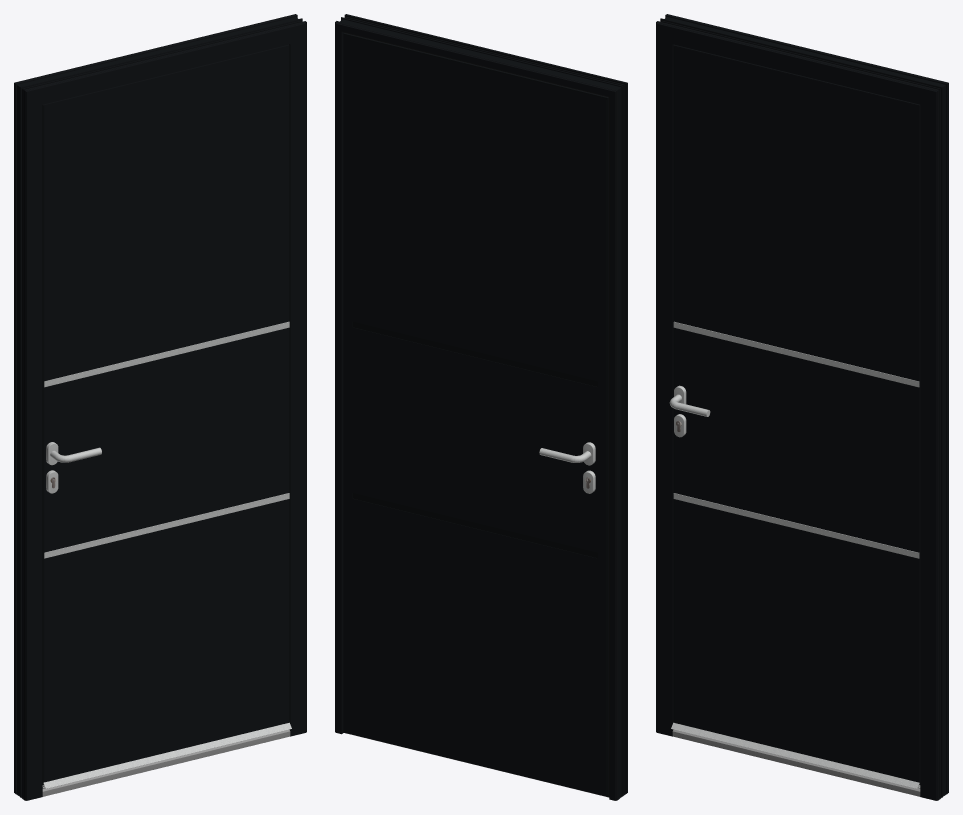
3 views of the same model, side by side, from view 1: azimuth 30°, elevation 25°; view 2: azimuth 150°, elevation 25°; view 3: azimuth 330°, elevation 25° (orthographic).
Visible parts, largest first — view 1: bloco_2, aroFixo, alunox, aroMovel, rodapé, escovas, puxador001, monobloco; view 2: bloco_2, aroFixo, monobloco, aroMovel, puxador; view 3: bloco_2, aroFixo, alunox, aroMovel, rodapé, escovas, puxador001, monobloco.
Part boxes in pixels (x1,y1,x2,y2): bloco_2: [44, 46, 288, 782]; aroFixo: [14, 14, 306, 800]; alunox: [44, 321, 289, 558]; aroMovel: [42, 44, 289, 784]; rodapé: [42, 729, 290, 796]; escovas: [42, 722, 291, 788]; puxador001: [46, 442, 101, 493]; monobloco: [44, 106, 44, 781]; bloco_2: [343, 34, 606, 795]; aroFixo: [335, 14, 627, 800]; monobloco: [344, 34, 607, 796]; aroMovel: [343, 32, 609, 796]; puxador: [539, 442, 595, 493]; bloco_2: [674, 46, 918, 782]; aroFixo: [656, 14, 948, 800]; alunox: [673, 321, 919, 558]; aroMovel: [673, 44, 920, 784]; rodapé: [672, 729, 920, 796]; escovas: [671, 722, 920, 788]; puxador001: [669, 385, 710, 437]; monobloco: [674, 46, 674, 722].
Size of the model in its own units: 900 by 2165 by 209.
Materials: 7 (2 with a texture image).
